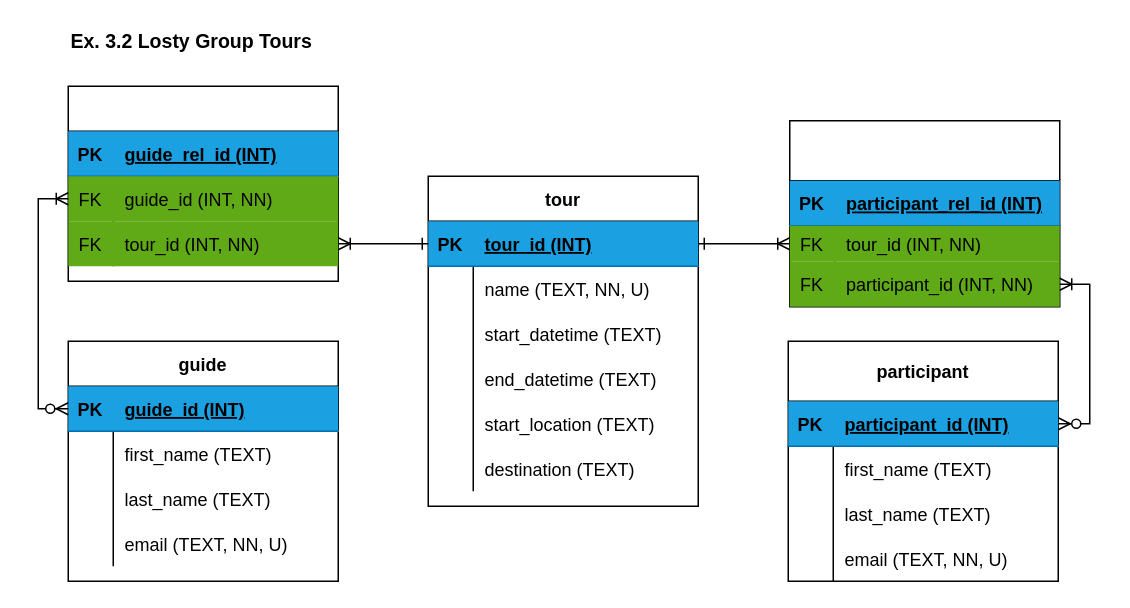
This 1130x608 diagram has some shape labels left out. The shapes that lost their labels are listed below. From the top down, each one's box as (x1, y1, x2, y2) in pixels, then its label:
(67, 85, 338, 281): tour_guide_relationship
(788, 119, 1060, 307): tour_participant_relationship
